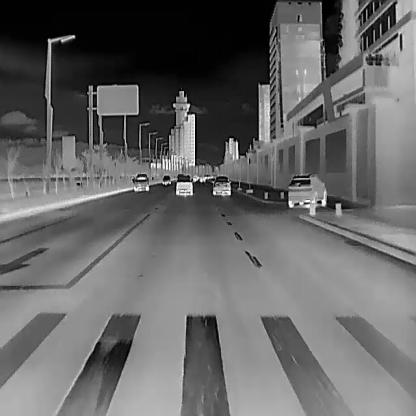car: (287, 172, 326, 206), (211, 174, 231, 196), (174, 174, 192, 195), (132, 172, 149, 190), (162, 174, 171, 184)
